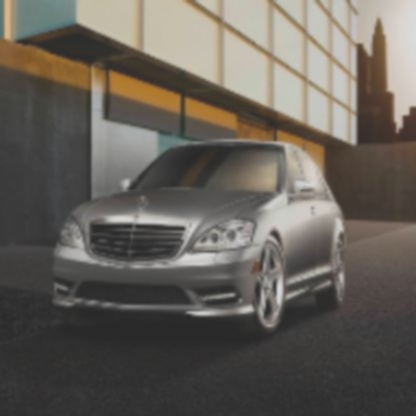Vehicle: (52, 140, 346, 332)
